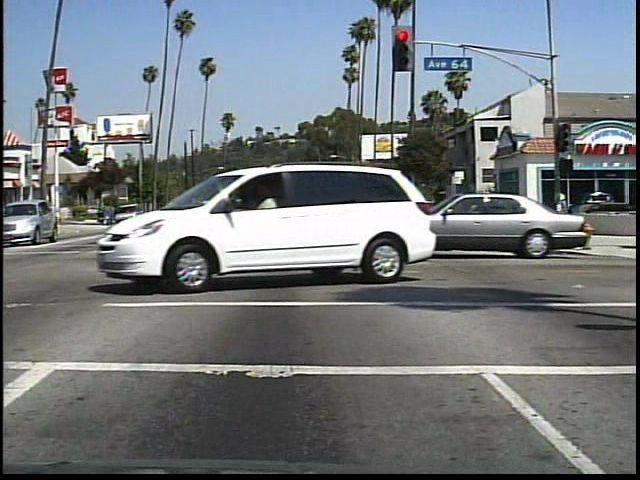person: (548, 188, 576, 238)
